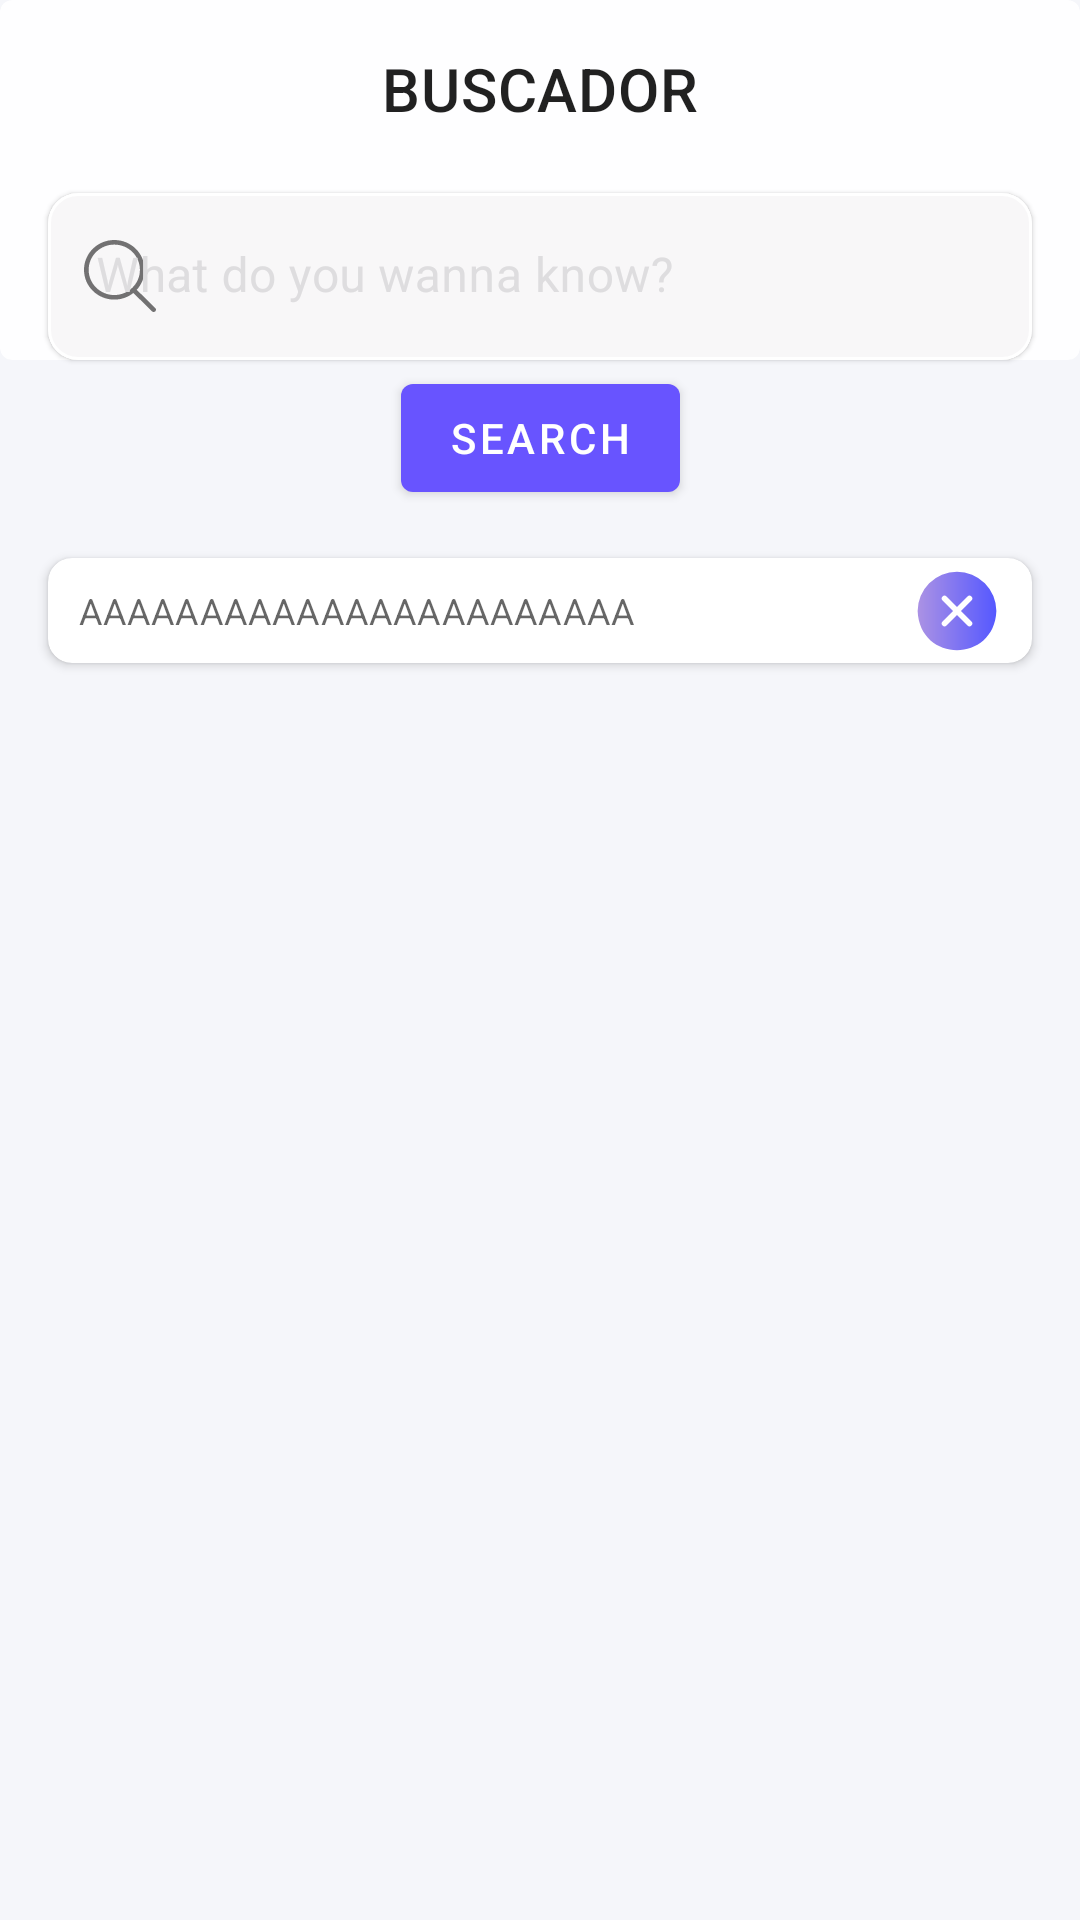

Where to tap for icons on this 1080*1920 app screen, as point (x, y):
close: point (957, 611)
